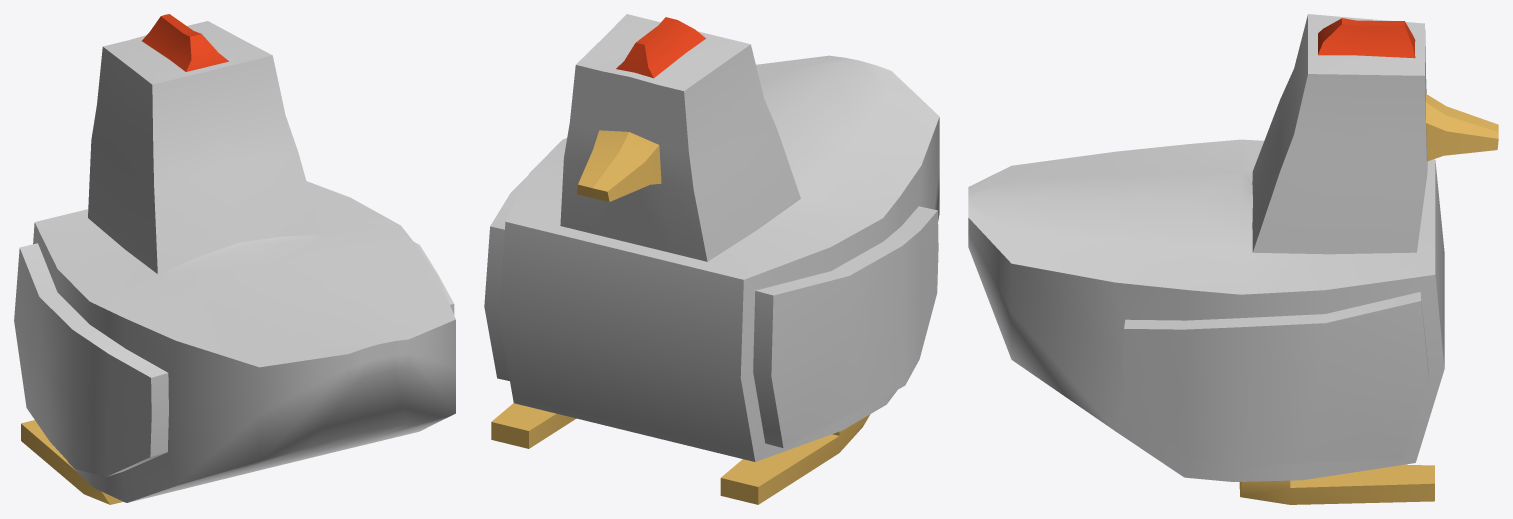
Rendered from chicken.fbx.
3 views of the same model, side by side, from view 1: azimuth 30°, elevation 25°; view 2: azimuth 150°, elevation 25°; view 3: azimuth 270°, elevation 25° (orthographic). The views are drawn at different scales.
Visible parts, largest first — view 1: Cube; view 2: Cube; view 3: Cube.
Boxes of the visible parts, x1=… form: Cube: x1=14, y1=14, x2=455, y2=504; Cube: x1=484, y1=14, x2=939, y2=504; Cube: x1=968, y1=14, x2=1498, y2=504.
Bounding box in the file's own units: 396 × 444 × 513.
